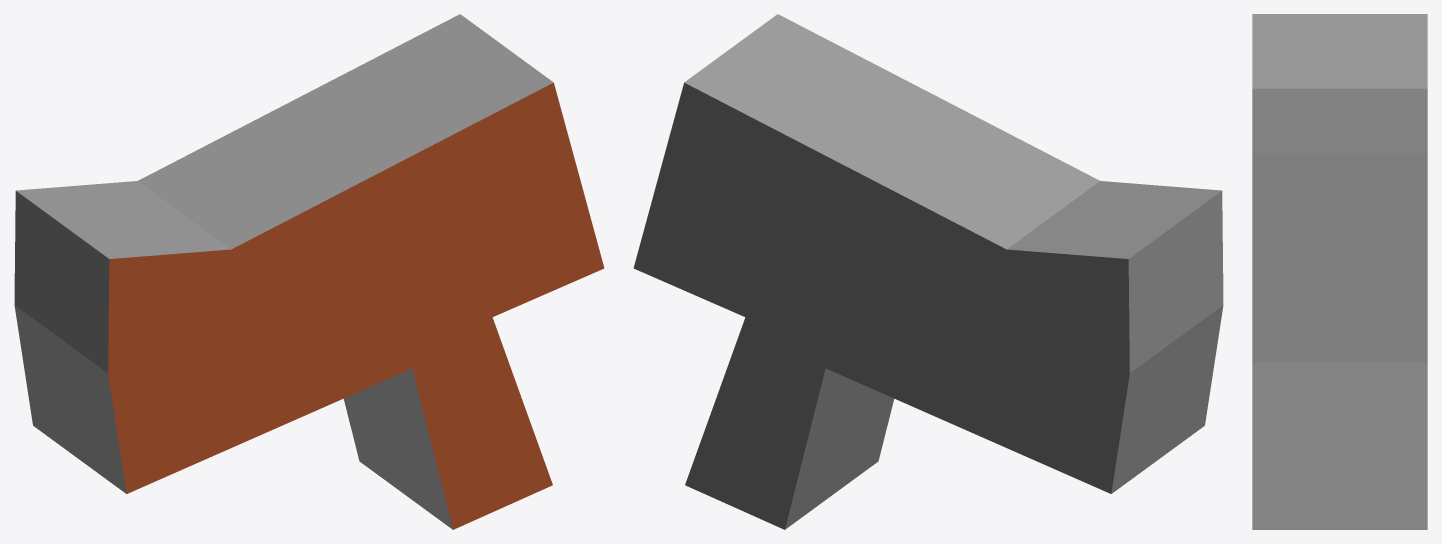
Rendered from construction_2605_assumed_A_Casa_h6m.obj.
3 renders of one model, left to right at view 1: azimuth 30°, elevation 25°; view 2: azimuth 150°, elevation 25°; view 3: azimuth 270°, elevation 25°, orthographic. The views are drawn at different scales.
Visible parts, largest first — view 1: construction_2605_assumed_A_Casa; view 2: construction_2605_assumed_A_Casa; view 3: construction_2605_assumed_A_Casa.
Boxes of the visible parts, x1,y1,x2,y2 form: construction_2605_assumed_A_Casa: [14, 14, 604, 529]; construction_2605_assumed_A_Casa: [633, 14, 1223, 529]; construction_2605_assumed_A_Casa: [1252, 14, 1427, 529].
Size of the model in its own units: 18.36 by 14.95 by 6.
